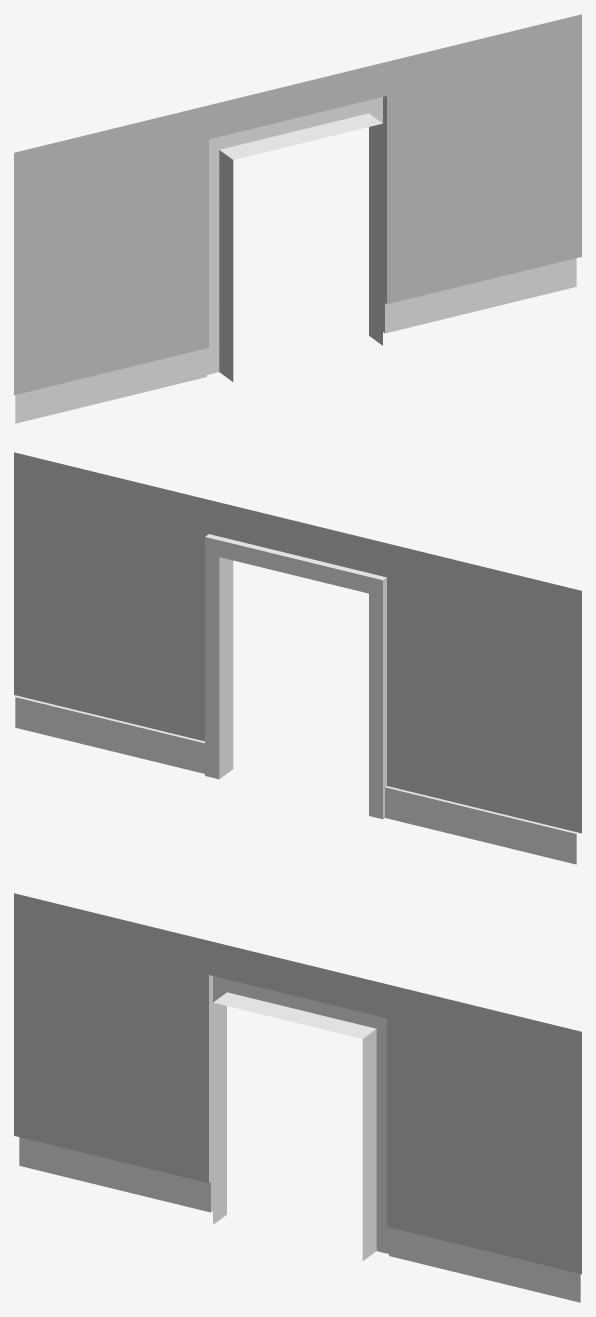
File: 3D_Prop_WallDoorway.fbx
3 views of the same model, one above another, from view 1: azimuth 30°, elevation 25°; view 2: azimuth 150°, elevation 25°; view 3: azimuth 330°, elevation 25° (orthographic).
Parts seen in each view (by area): view 1: Wall_Doorway; view 2: Wall_Doorway; view 3: Wall_Doorway.
Part boxes in pixels (x1,y1,x2,y2): Wall_Doorway: (14,14,581,423); Wall_Doorway: (14,452,581,864); Wall_Doorway: (14,893,581,1302).
Bounding box in the file's own units: 1500 × 689 × 64.38.
2 materials, 1 textured.
